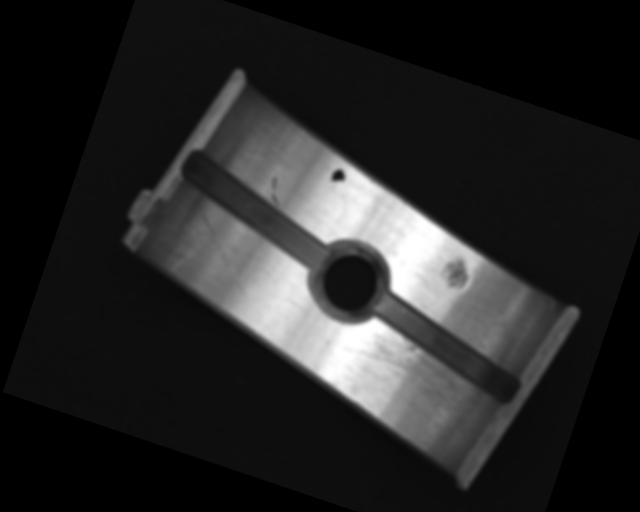blot: (327, 166, 348, 191)
bruise: (435, 253, 474, 294)
gap: (165, 146, 345, 270), (355, 288, 535, 405)
hole: (303, 234, 396, 330)
nick: (177, 208, 265, 296), (263, 173, 288, 208)
scratch: (323, 317, 512, 449)
